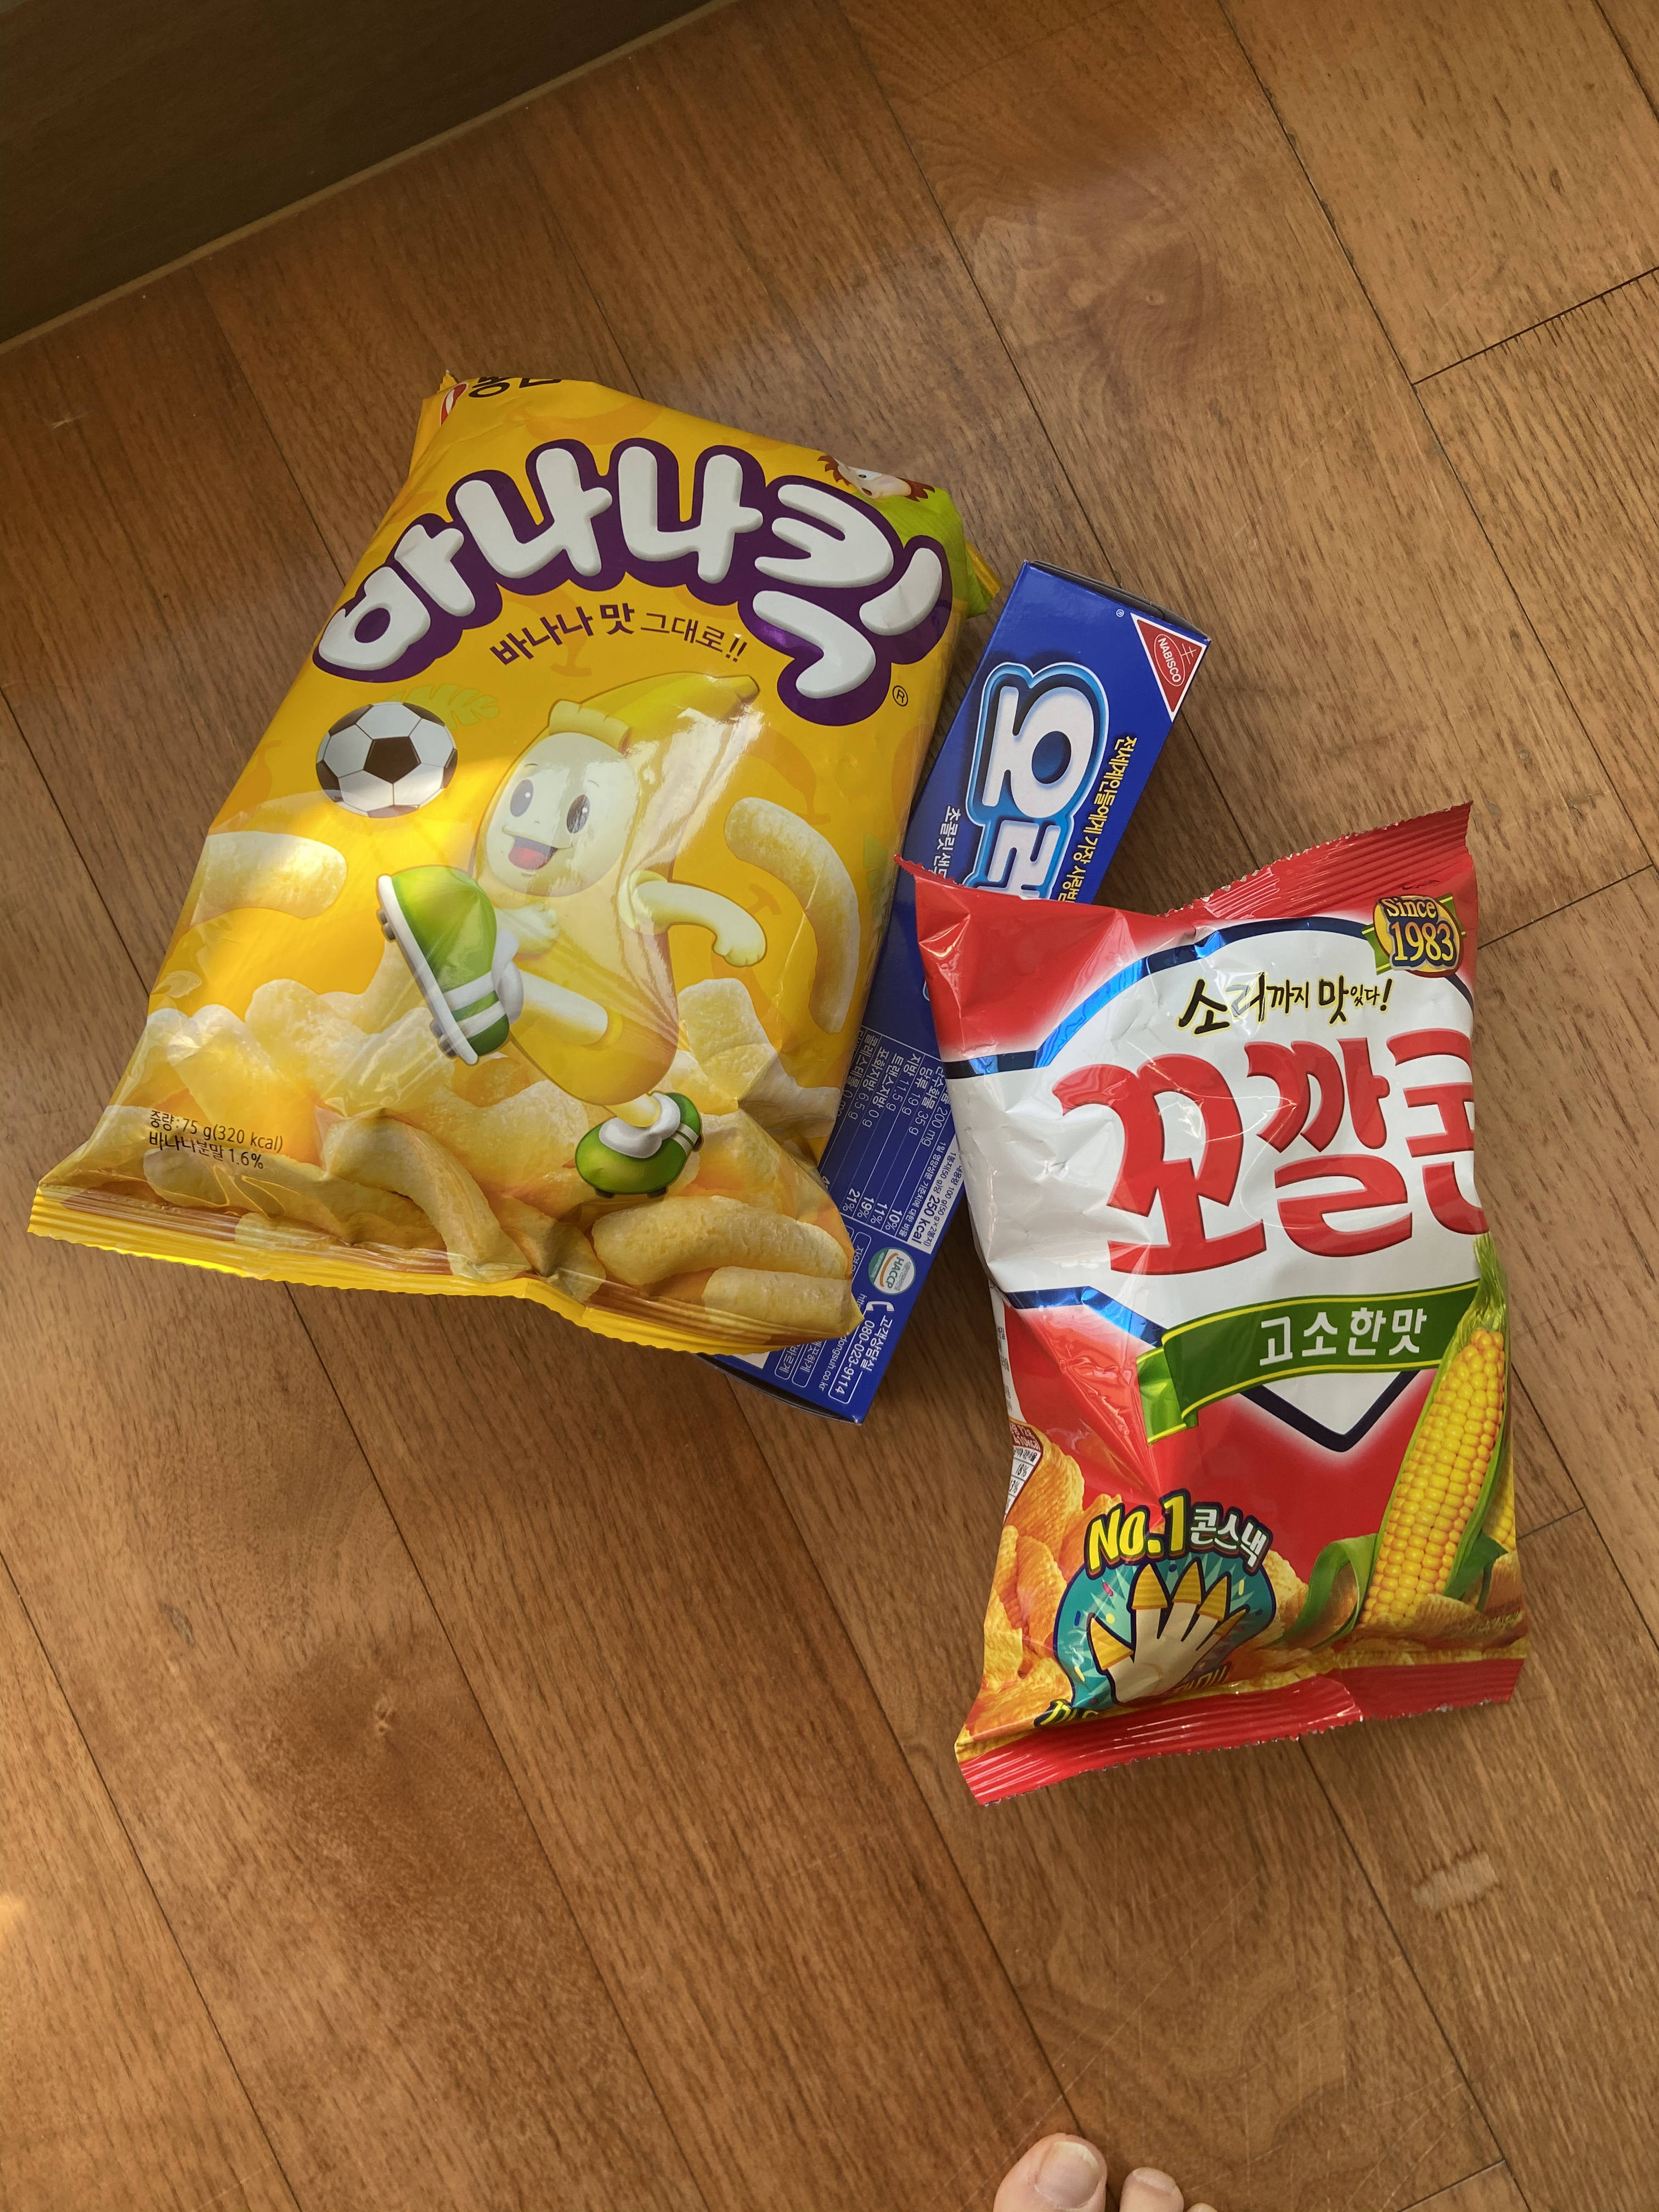banana: (12, 352, 1012, 1371)
ggoggalcon: (880, 780, 1541, 1813)
oreo: (687, 528, 1215, 1423)
